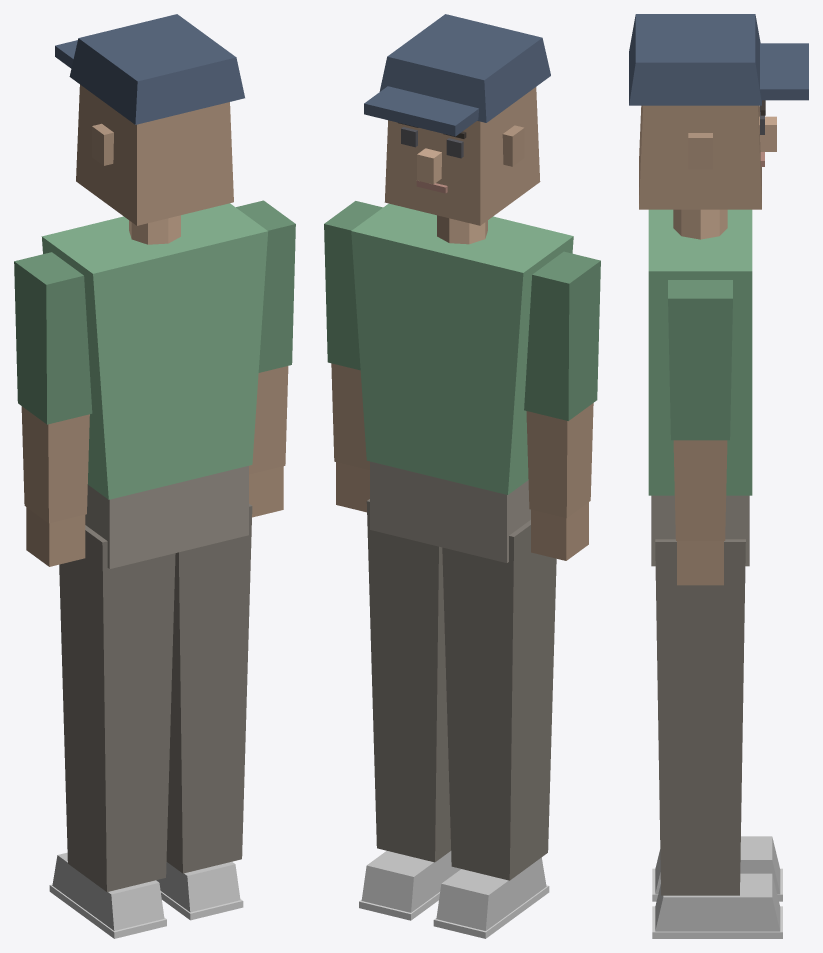
The model's file is man_cap.glb.
3 renders of one model, left to right at view 1: azimuth 30°, elevation 25°; view 2: azimuth 150°, elevation 25°; view 3: azimuth 270°, elevation 25°, orthographic. The views are drawn at different scales.
Visible parts, largest first — view 1: Torso, LegMesh, HeadMesh, LegMesh2, ArmMesh, ArmMesh2; view 2: Torso, LegMesh, HeadMesh, LegMesh2, ArmMesh, ArmMesh2; view 3: LegMesh2, HeadMesh, Torso, ArmMesh2, LegMesh.
Boxes of the visible parts, box(x1,y1,x2,y2) form: Torso: box(41, 203, 268, 568); LegMesh: box(49, 525, 175, 938); HeadMesh: box(55, 14, 244, 225); LegMesh2: box(156, 504, 252, 920); ArmMesh: box(14, 252, 92, 566); ArmMesh2: box(236, 200, 295, 517); Torso: box(351, 203, 573, 562); LegMesh: box(433, 520, 556, 938); HeadMesh: box(364, 14, 550, 225); LegMesh2: box(359, 499, 460, 920); ArmMesh: box(524, 251, 600, 560); ArmMesh2: box(324, 201, 382, 512); LegMesh2: box(652, 539, 782, 938); HeadMesh: box(629, 14, 808, 209); Torso: box(648, 209, 752, 566); ArmMesh2: box(668, 280, 732, 585); LegMesh: box(652, 836, 782, 901).
Size of the model in its own units: 0.591 by 1.95 by 0.365.
